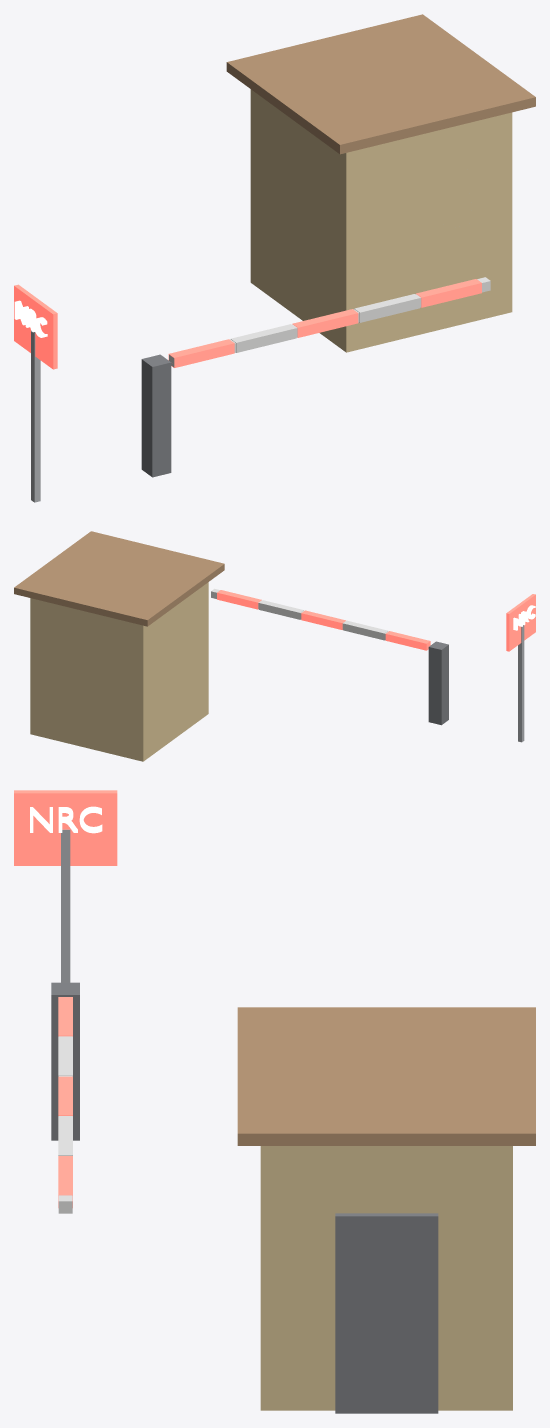
Rendered from level_crossing.glb.
3 views of the same model, one above another, from view 1: azimuth 30°, elevation 25°; view 2: azimuth 150°, elevation 25°; view 3: azimuth 270°, elevation 25° (orthographic). The views are drawn at different scales.
Parts seen in each view (by area): view 1: BLD_level_crossing; view 2: BLD_level_crossing; view 3: BLD_level_crossing.
Boxes of the visible parts, x1,y1,x2,y2 form: BLD_level_crossing: (14, 14, 535, 502); BLD_level_crossing: (14, 531, 535, 761); BLD_level_crossing: (14, 790, 535, 1413).
Bounding box in the file's own units: 7.6 × 2.76 × 4.55.
